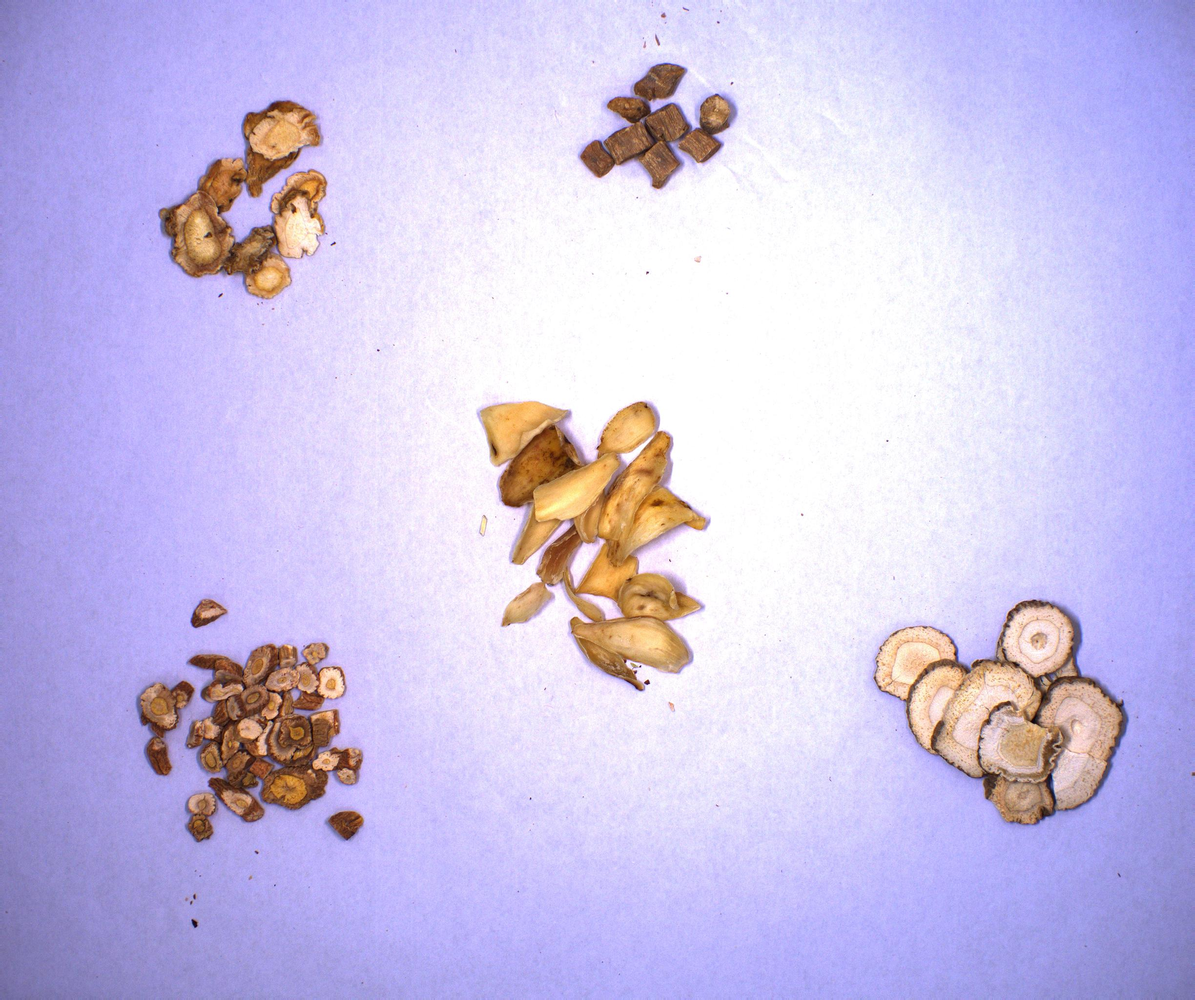baihe: (481, 398, 704, 689)
baizhi: (874, 600, 1130, 828)
banlangen: (138, 596, 372, 846)
jiegeng: (163, 94, 331, 303)
niuxi: (583, 64, 739, 189)
